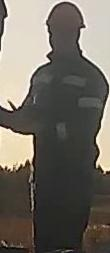helmet: (42, 1, 88, 39)
vest: (24, 56, 107, 162)
